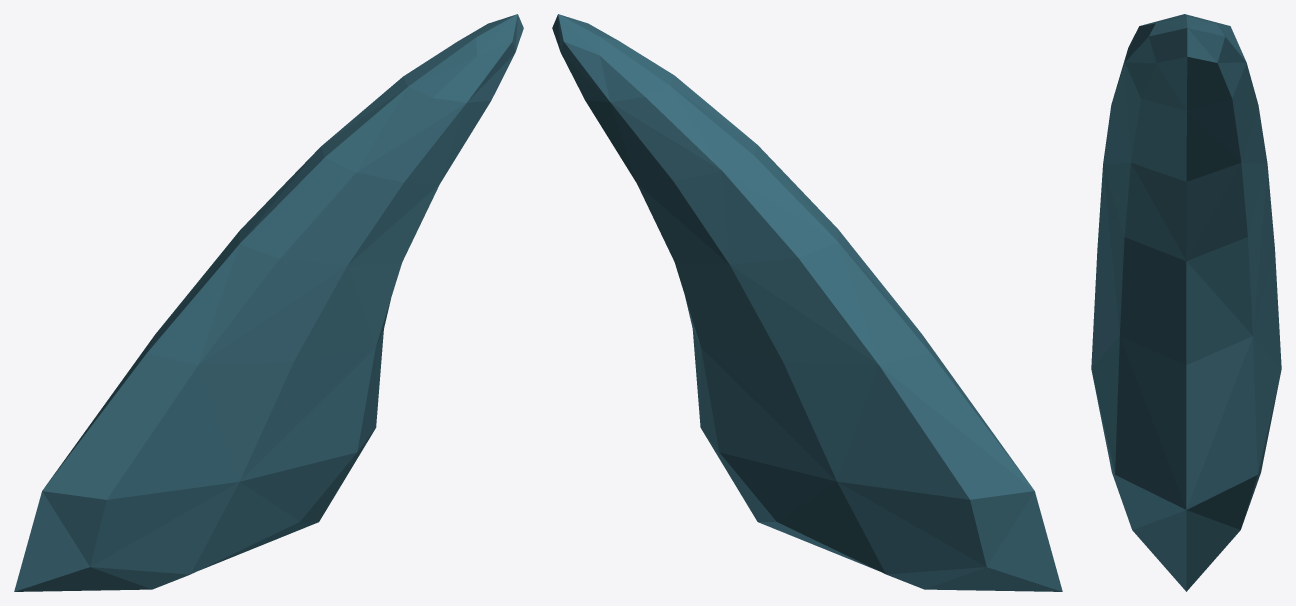
The model's file is Shark1_fin_new3.dae.
The picture shows the model from 3 angles, left to right: view 1: azimuth 30°, elevation 25°; view 2: azimuth 150°, elevation 25°; view 3: azimuth 270°, elevation 25°; orthographic projection. The views are drawn at different scales.
Visible parts, largest first — view 1: Cube; view 2: Cube; view 3: Cube.
Part boxes in pixels (x1,y1,x2,y2): Cube: [14, 14, 523, 591]; Cube: [552, 14, 1062, 591]; Cube: [1091, 14, 1281, 591].
Size of the model in its own units: 9.37 by 1.95 by 8.53.
